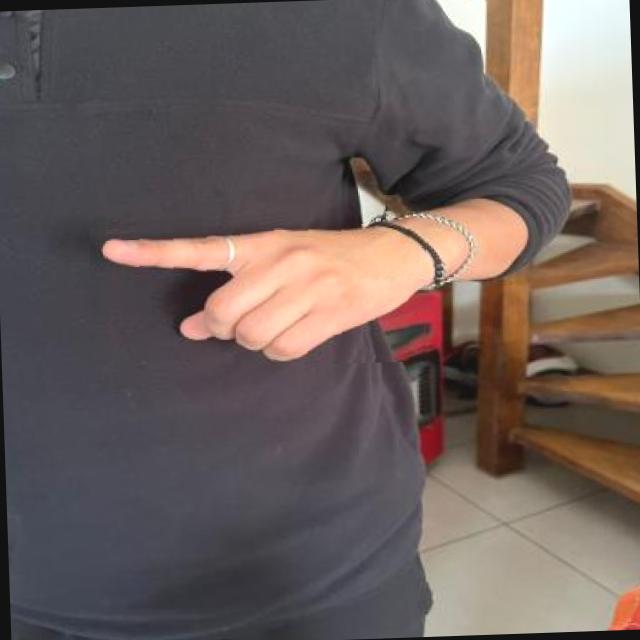S: (89, 205, 432, 372)
